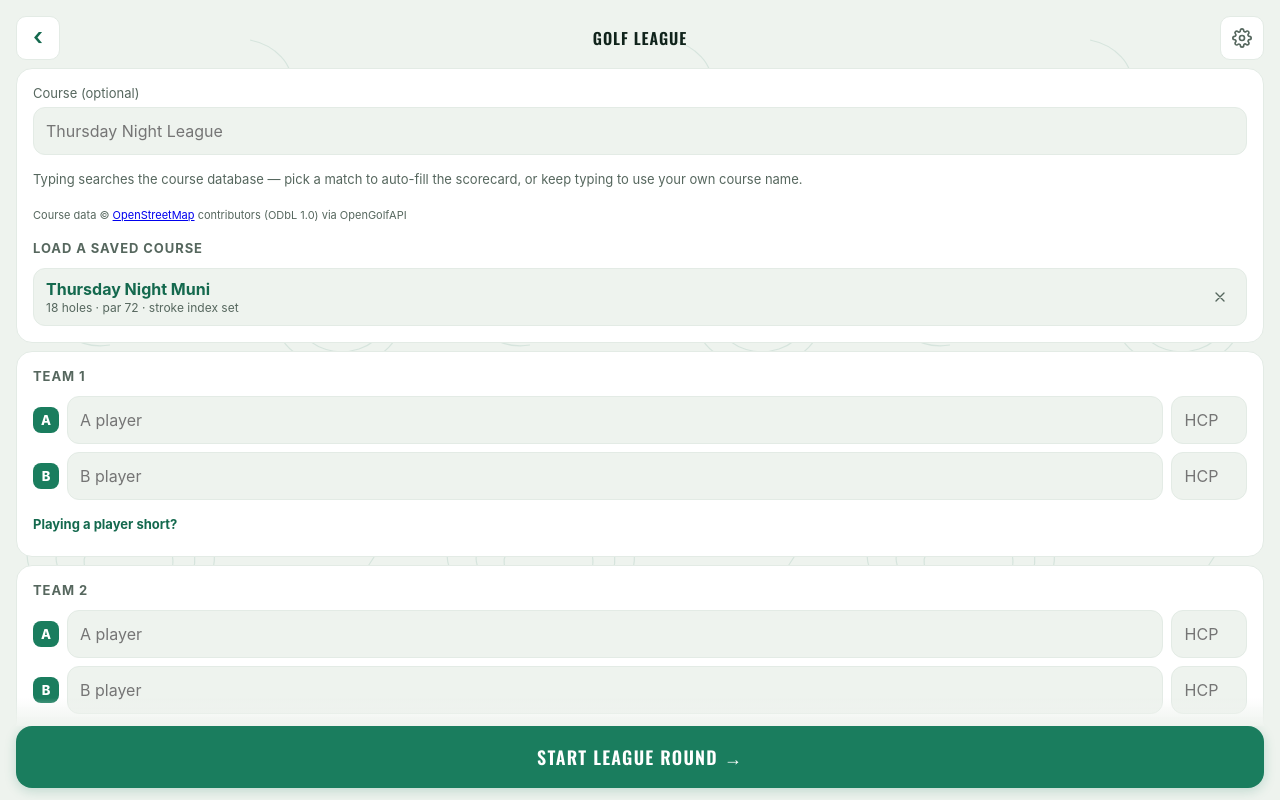
Test case: working out a handicap › hints at a regular's number from league nights on this phone, without filling it in
Step 1. Type "Al" into the 1st field with placeholder "A player" → (615, 420), box [67,396,1163,444]
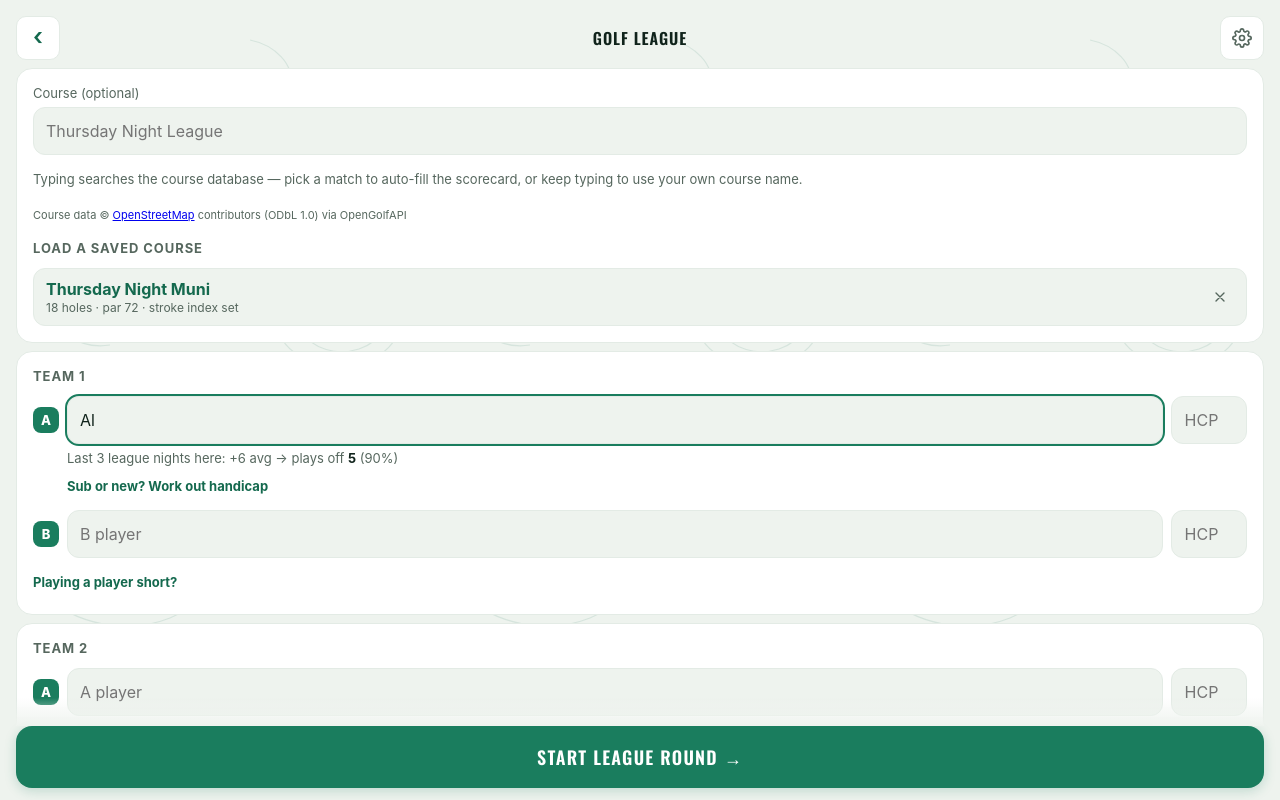
Expected: the 1st number field with placeholder "HCP" is empty, [1171,396,1247,444]
Now the text "Last 3 league nights here: +6 avg → plays off 5 (90%)" is shown, box [67,450,398,466]
